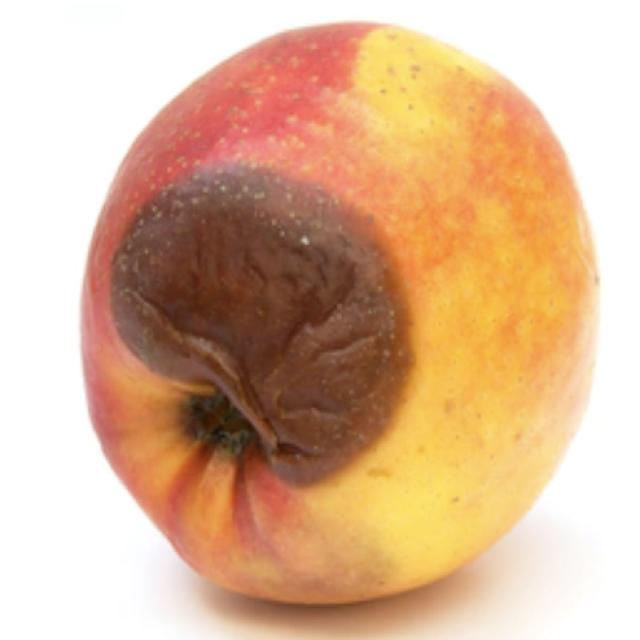apple: (82, 24, 598, 603)
